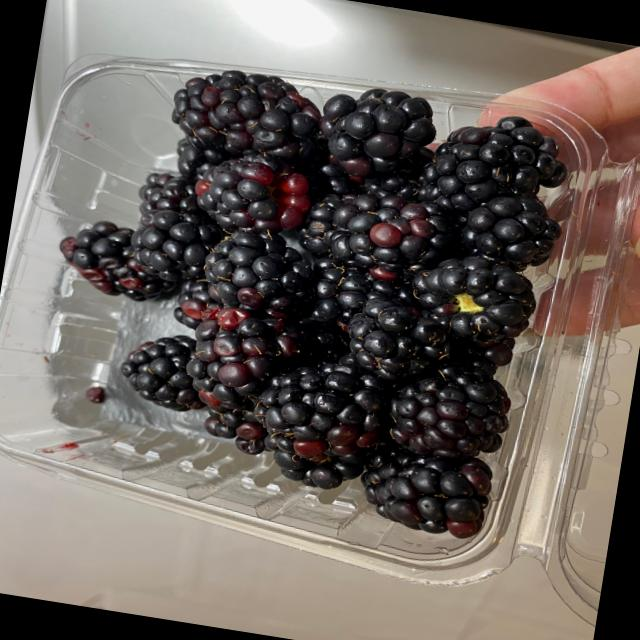blackberries: (37, 48, 566, 547)
